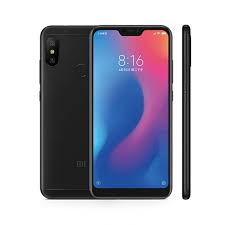mi: (86, 22, 175, 200), (37, 22, 88, 201)
